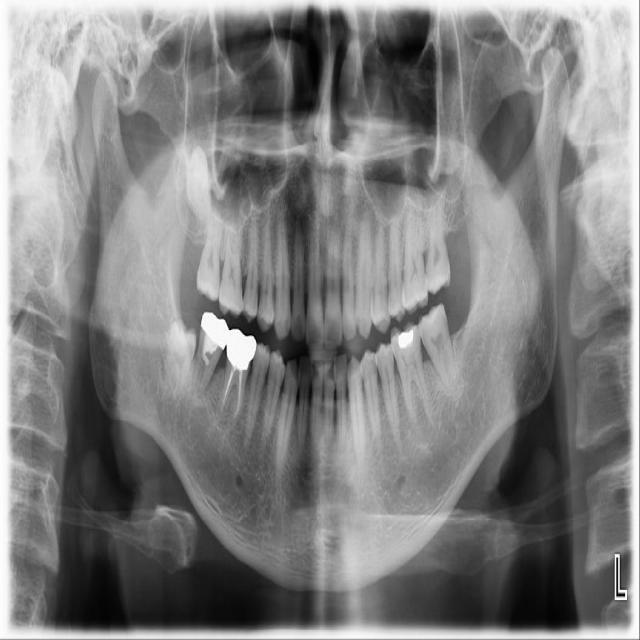52: (214, 324, 263, 373), (192, 307, 238, 351), (385, 319, 425, 357)
73: (216, 354, 253, 420), (191, 330, 226, 396), (578, 572, 583, 582)
BioHorizons Implant: (421, 199, 452, 294)
Blue Sky Bio Implant: (414, 301, 461, 398)
Caries: (196, 206, 223, 302)
Implant: (190, 309, 233, 396)
Keystone Dental Implant: (157, 317, 201, 402)
